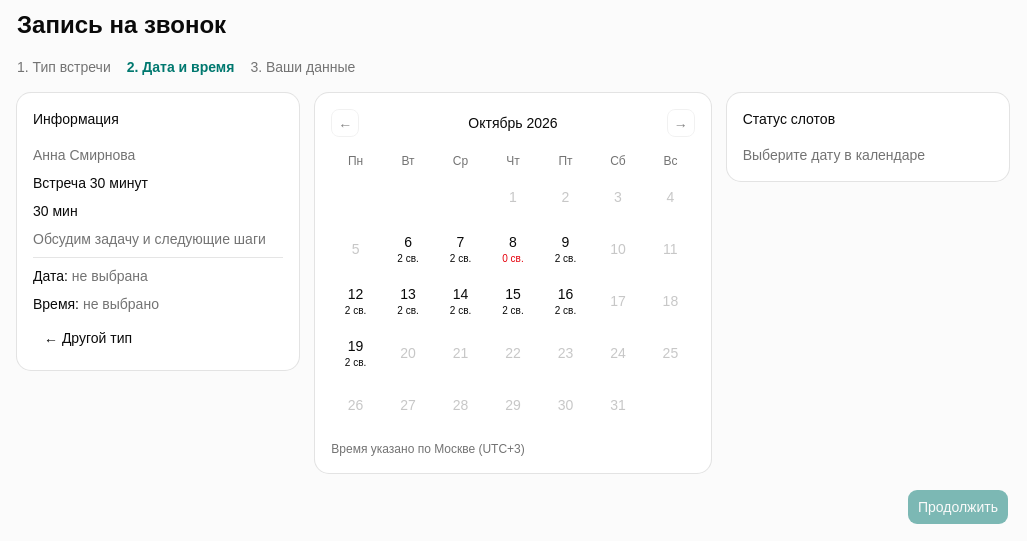
it: колонка «Статус слотов» › если все слоты дня заняты — «Все слоты заняты — выберите другой день»
The width and height of the screenshot is (1027, 541).
Click the button "8 0 св." at (513, 249), box [489,225,537,273]
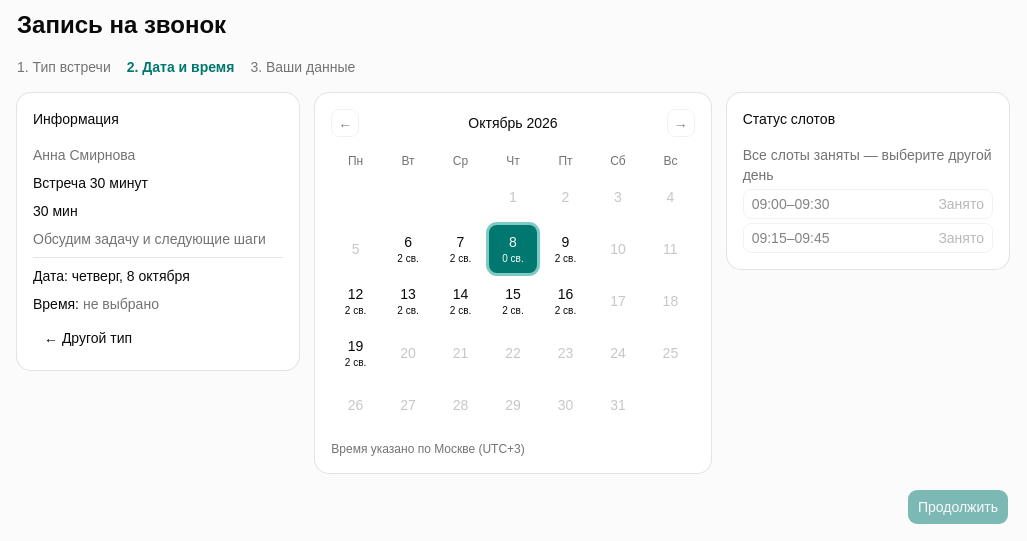
expect the element "Статус слотов" does not show "На этот день слотов не осталось": met, box [727,93,1009,269]
expect the element "Статус слотов" shows "Все слоты заняты — выберите другой день": met, box [743,147,991,183]
